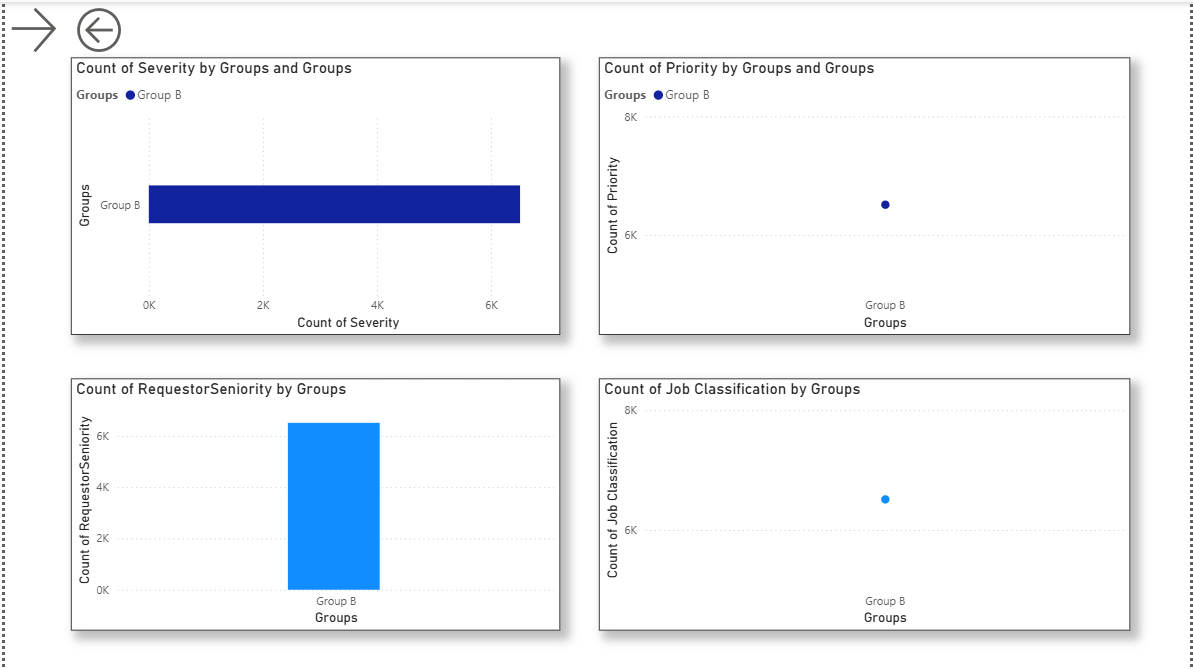

The dashboard page shown, as its layout file describes it:
{"tool":"powerbi","page":{"name":"Group B","canvas":[1280,720],"ordinal":4},"visuals":[{"type":"barChart","fields":{"Category":["Tickets.Groups"],"Series":["Tickets.Groups"],"Y":["CountNonNull(Tickets.Severity)"]},"box":[71.2,59.9,527.9,299.6],"z":0},{"type":"lineChart","fields":{"Category":["Tickets.Groups"],"Series":["Tickets.Groups"],"Y":["CountNonNull(Tickets.Priority)"]},"box":[641.2,59.9,573.2,299.6],"z":1000},{"type":"columnChart","fields":{"Category":["Tickets.Groups"],"Y":["CountNonNull(Tickets.RequestorSeniority)"]},"box":[71.2,406.4,527.9,272],"z":2000},{"type":"stackedAreaChart","fields":{"Category":["Tickets.Groups"],"Y":["CountNonNull(Tickets.Job Classification)"]},"box":[641.2,406.4,573.2,272],"z":3000},{"type":"actionButton","box":[0,0,99.1,60.6],"z":4000},{"type":"actionButton","box":[71.6,0,99.1,60.6],"z":5000}]}

Visuals, with their boxes in screenshot pixels (x1, y1, x2, y2):
barChart - Tickets.Groups x Tickets.Groups: detection(78, 58, 561, 332)
lineChart - Tickets.Groups x Tickets.Groups: detection(599, 58, 1123, 332)
columnChart - Tickets.Groups x CountNonNull(Tickets.RequestorSeniority): detection(78, 375, 561, 624)
stackedAreaChart - Tickets.Groups x CountNonNull(Tickets.Job Classification): detection(599, 375, 1123, 624)
actionButton: detection(12, 3, 103, 59)
actionButton: detection(78, 3, 169, 59)
